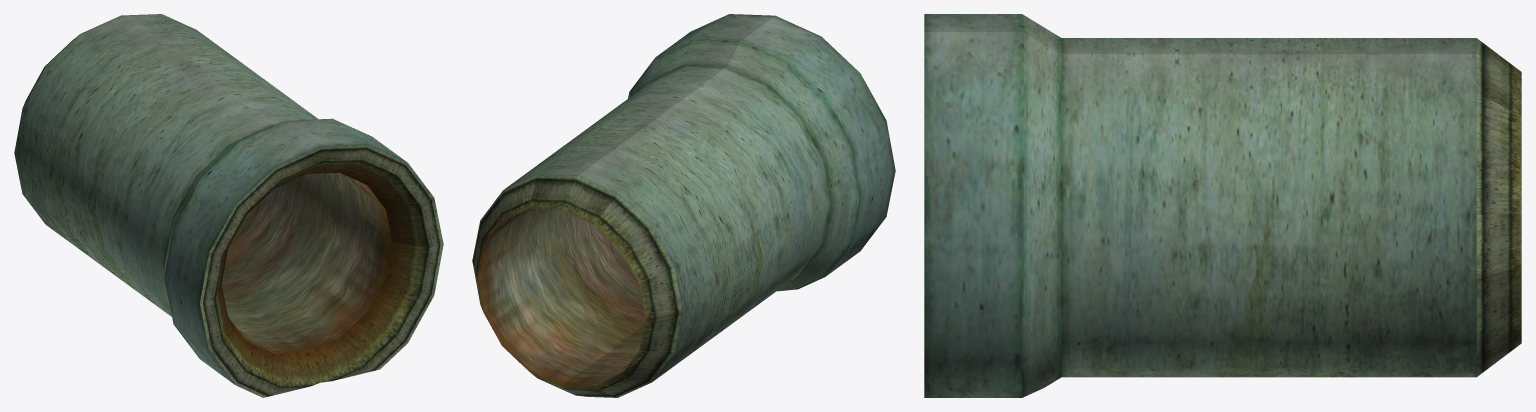
The model's file is pipes_concrete_medium.fbx.
3 views of the same model, side by side, from view 1: azimuth 30°, elevation 25°; view 2: azimuth 150°, elevation 25°; view 3: azimuth 270°, elevation 25° (orthographic). The views are drawn at different scales.
Visible parts, largest first — view 1: mesh_0; view 2: mesh_0; view 3: mesh_0.
Part boxes in pixels (left/top/right/bottom): mesh_0: left=14, top=14, right=443, bottom=397; mesh_0: left=472, top=14, right=895, bottom=397; mesh_0: left=924, top=14, right=1521, bottom=397.
Size of the model in its own units: 171 by 159 by 264.
1 material, 1 textured.
